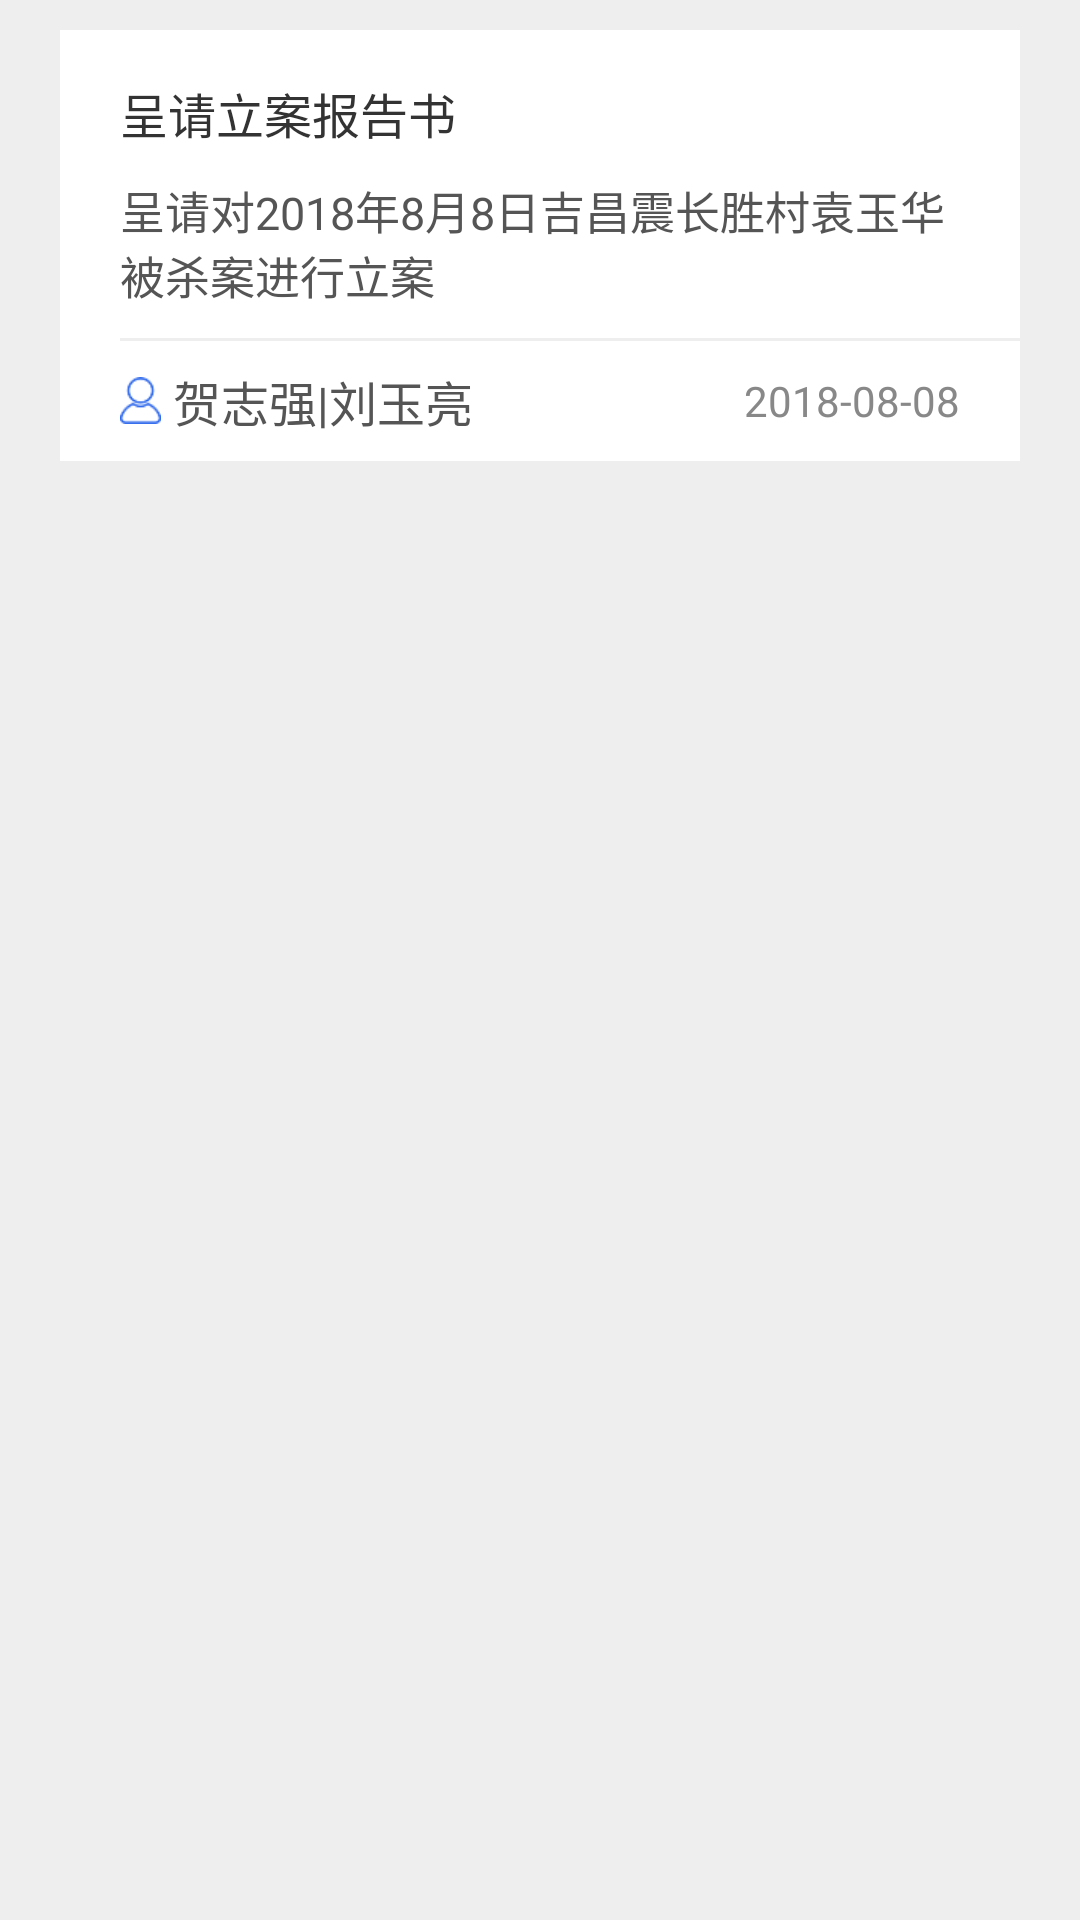

Named icons in this screenshot (1080px×1920px) and their centers, (x,y):
user: (140,400)
